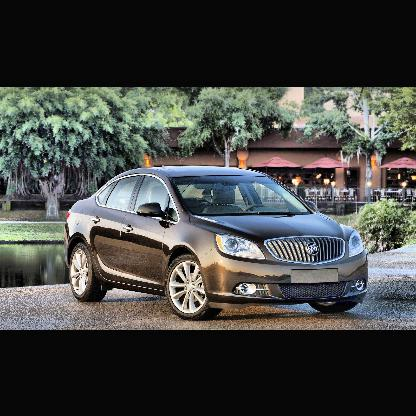Buick Verano Sedan 2012: (66, 165, 370, 321)
